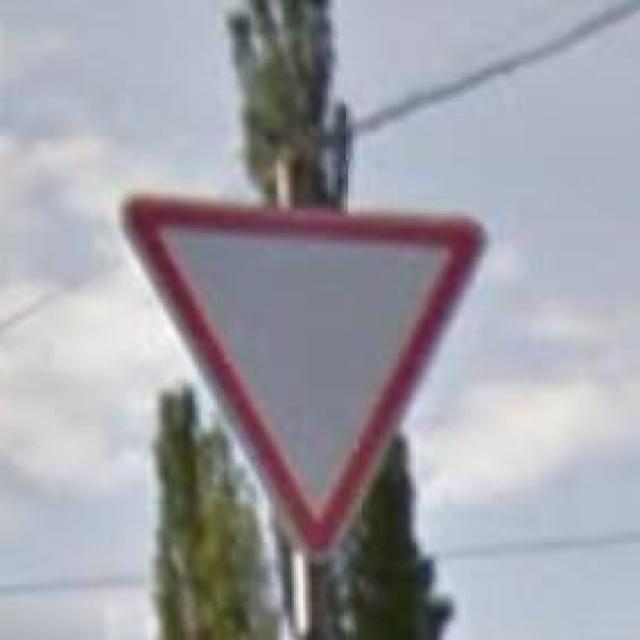Ustap pierwszenstwa: (118, 194, 484, 562)
